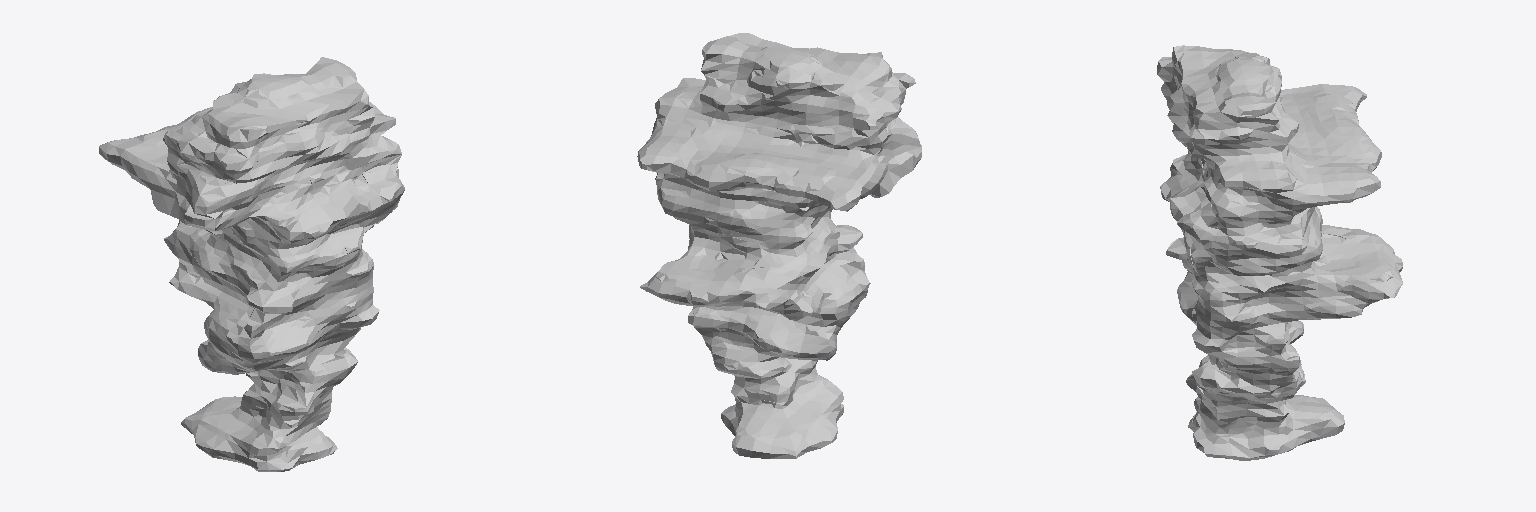
The model's file is friend_rock_papertop.obj.
3 views of the same model, side by side, from view 1: azimuth 30°, elevation 25°; view 2: azimuth 150°, elevation 25°; view 3: azimuth 270°, elevation 25° (orthographic).
Parts seen in each view (by area): view 1: friend_rock_wall_based.001_pn_paul_rock_low_poly_Cube.001; view 2: friend_rock_wall_based.001_pn_paul_rock_low_poly_Cube.001; view 3: friend_rock_wall_based.001_pn_paul_rock_low_poly_Cube.001.
Part boxes in pixels (x1,y1,x2,y2): friend_rock_wall_based.001_pn_paul_rock_low_poly_Cube.001: (99,57,404,471); friend_rock_wall_based.001_pn_paul_rock_low_poly_Cube.001: (637,33,921,458); friend_rock_wall_based.001_pn_paul_rock_low_poly_Cube.001: (1157,45,1402,460).
Size of the model in its own units: 1.16 by 1.73 by 1.02.